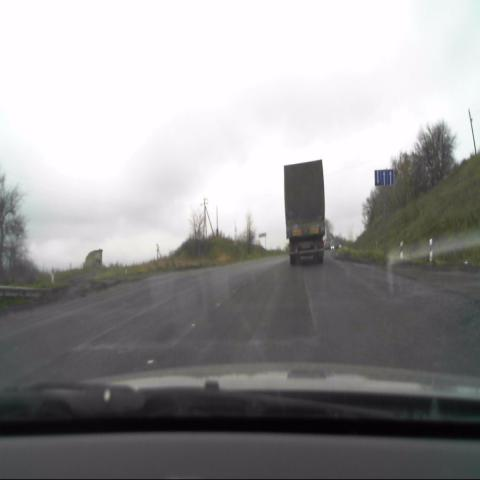5_15_7: (374, 167, 394, 186)
